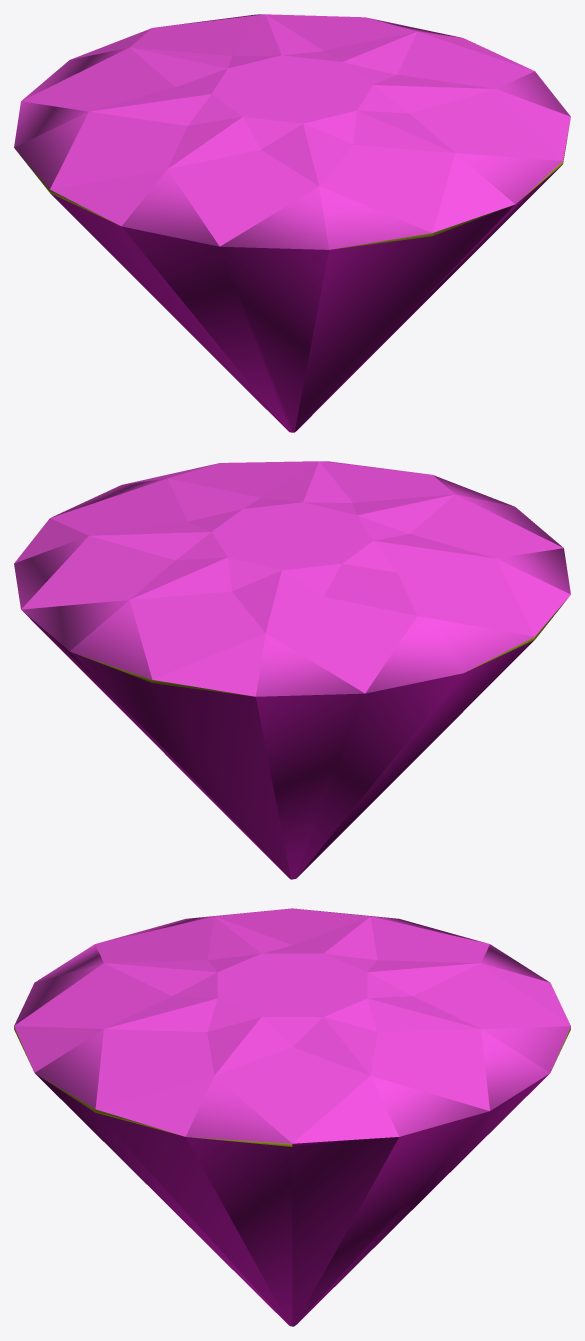
File: Elmas (1).fbx
3 renders of one model, top to bottom at view 1: azimuth 30°, elevation 25°; view 2: azimuth 150°, elevation 25°; view 3: azimuth 270°, elevation 25°, orthographic.
Visible parts, largest first — view 1: dimaond; view 2: dimaond; view 3: dimaond.
Part boxes in pixels (x1,y1,x2,y2): dimaond: (14,14,570,432); dimaond: (14,461,570,879); dimaond: (14,908,570,1326).
Size of the model in its own units: 55.83 by 37.59 by 55.83.
